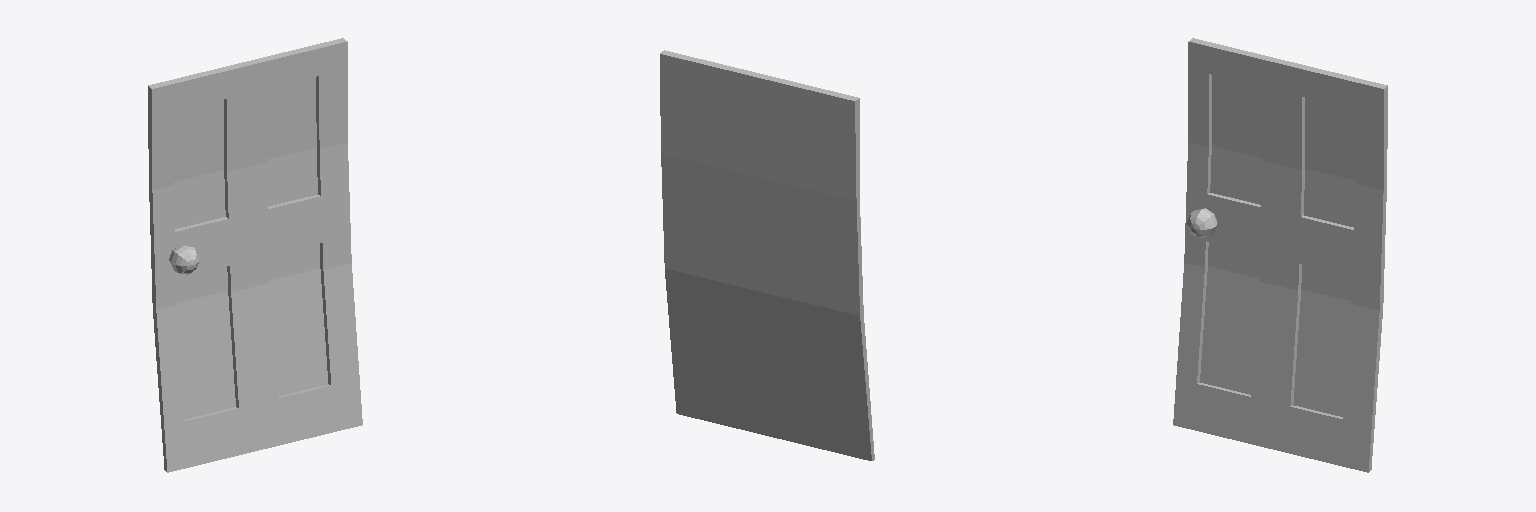
Rendered from PuertaDePrueba.obj.
3 renders of one model, left to right at view 1: azimuth 30°, elevation 25°; view 2: azimuth 150°, elevation 25°; view 3: azimuth 330°, elevation 25°, orthographic.
Visible parts, largest first — view 1: pSphere2; view 2: pSphere2; view 3: pSphere2.
Part boxes in pixels (left/top/right/bottom): pSphere2: left=148, top=38, right=362, bottom=472; pSphere2: left=660, top=50, right=874, bottom=460; pSphere2: left=1173, top=38, right=1387, bottom=472.
Size of the model in its own units: 2.18 by 3.98 by 0.4151.